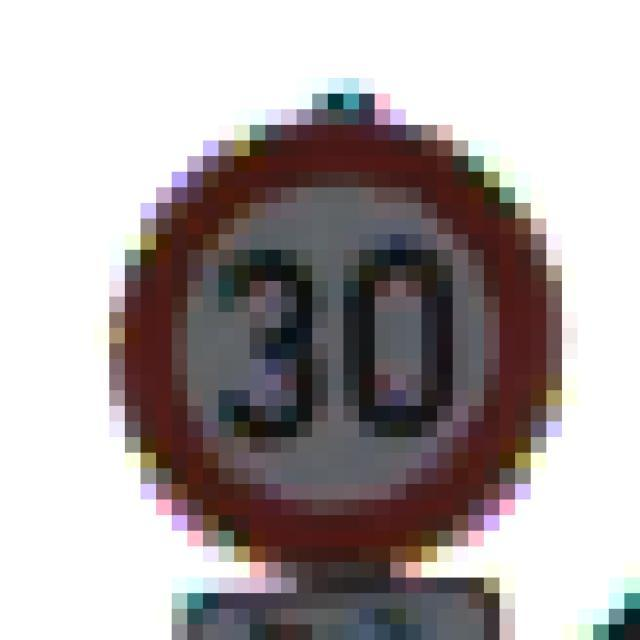Speed Limit -30-: (86, 70, 554, 554)
